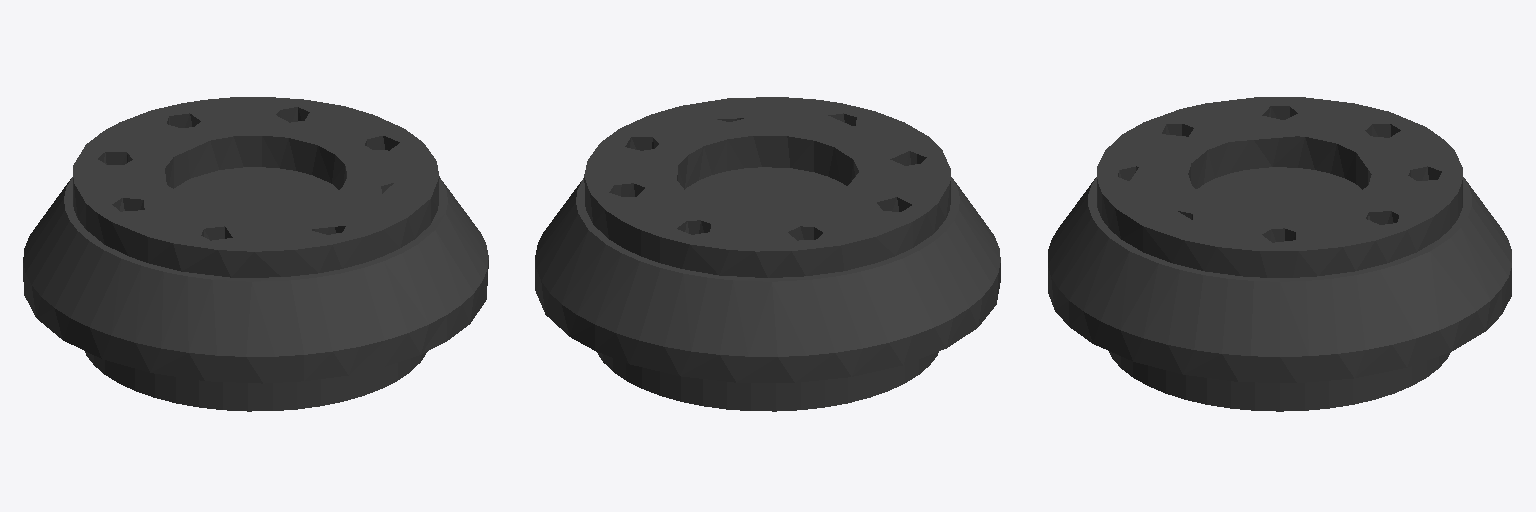
Rendered from kuka-link7.obj.
The picture shows the model from 3 angles: view 1: azimuth 30°, elevation 25°; view 2: azimuth 150°, elevation 25°; view 3: azimuth 270°, elevation 25°; orthographic projection.
Parts seen in each view (by area): view 1: object; view 2: object; view 3: object.
Part boxes in pixels (x1,y1,x2,y2): object: (23,97,488,411); object: (535,97,1000,411); object: (1048,97,1511,411).
Size of the model in its own units: 80 by 31 by 79.84.